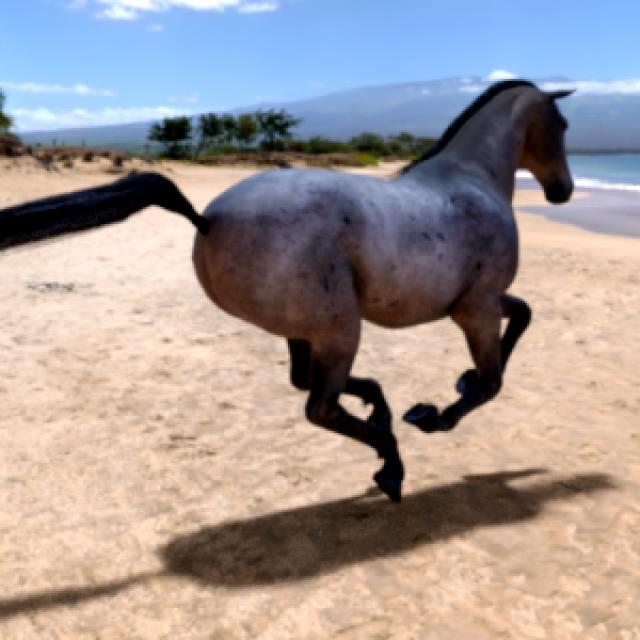horse: (0, 80, 571, 501)
